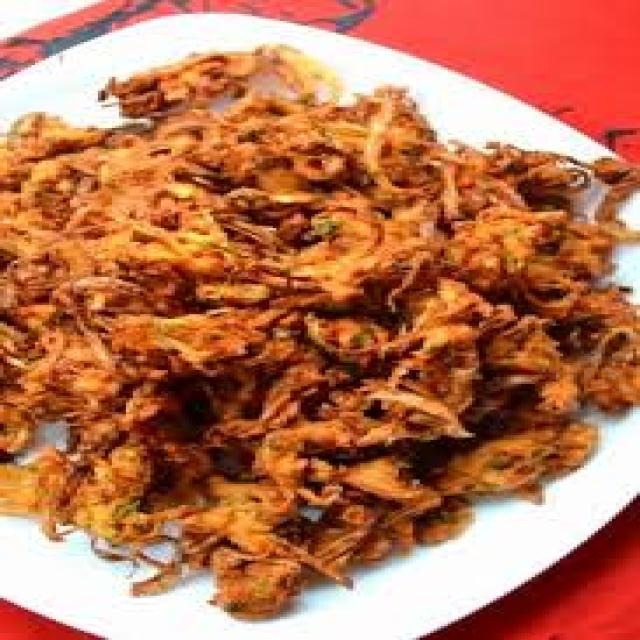BAJI: (2, 50, 637, 607)
